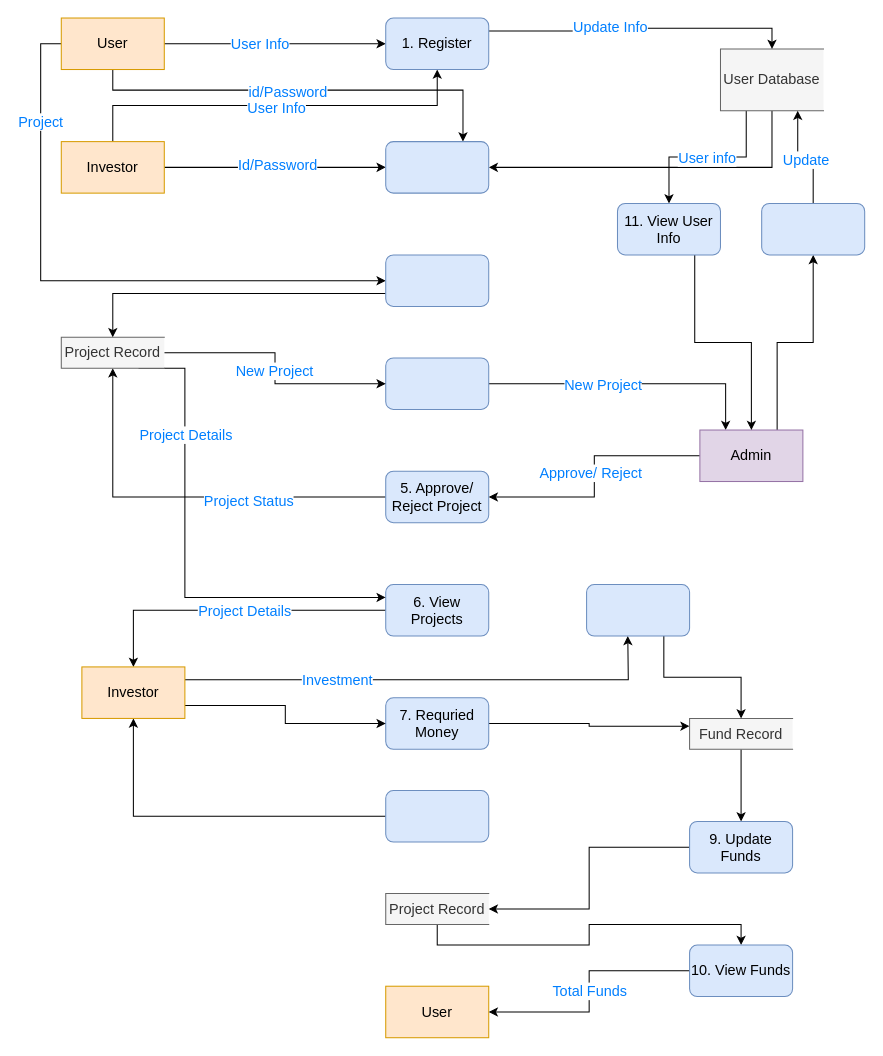
Image size: 883x1056. Some labels were removed from this diagram. The box of each missing label's shape, as (x1, y1, x2, y2) in pixels:
12. Delete user: (761, 202, 865, 255)
2. Login: (385, 141, 489, 193)
3. Create Project: (385, 254, 489, 306)
4. View new Project: (385, 357, 489, 409)
8. Status: (385, 789, 489, 842)
Smart Contract: (586, 583, 690, 636)
